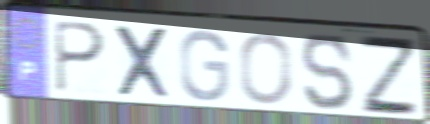G: (177, 26, 231, 104)
O: (237, 31, 294, 107)
P: (51, 18, 109, 95)
S: (299, 31, 357, 113)
X: (111, 22, 174, 102)
Z: (356, 32, 422, 118)
